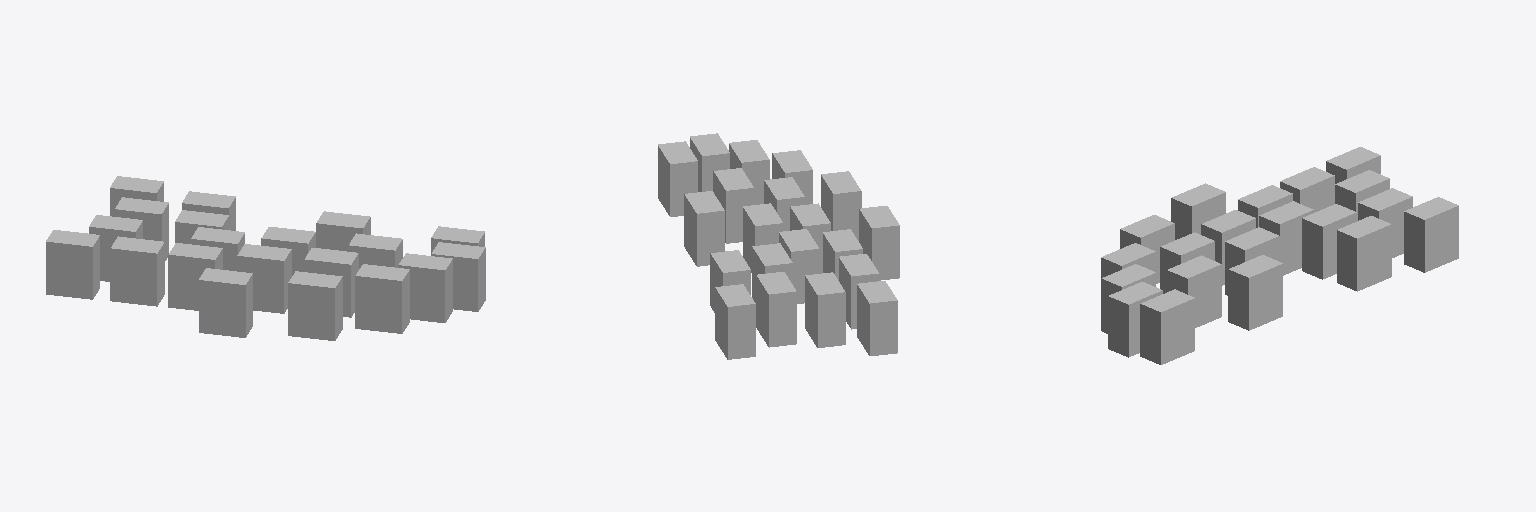
The model's file is tree_gorup.obj.
3 views of the same model, side by side, from view 1: azimuth 30°, elevation 25°; view 2: azimuth 150°, elevation 25°; view 3: azimuth 270°, elevation 25° (orthographic).
Visible parts, largest first — view 1: tree_gorup42; view 2: tree_gorup42; view 3: tree_gorup42.
Part boxes in pixels (left/top/right/bottom): tree_gorup42: left=46, top=176, right=485, bottom=340; tree_gorup42: left=658, top=133, right=899, bottom=359; tree_gorup42: left=1101, top=147, right=1458, bottom=364.
Bounding box in the file's own units: 40.29 × 6 × 36.75.